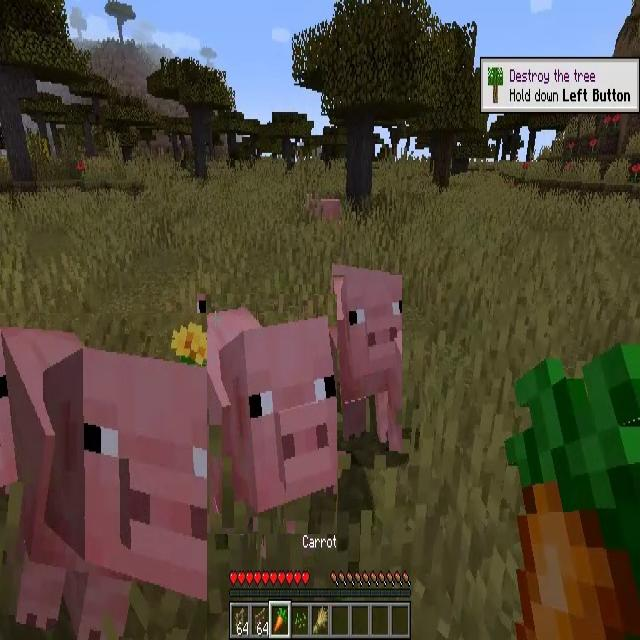flower: (0, 324, 36, 367)
pig: (0, 313, 207, 640), (198, 294, 338, 534), (333, 275, 402, 451), (305, 195, 342, 233)
